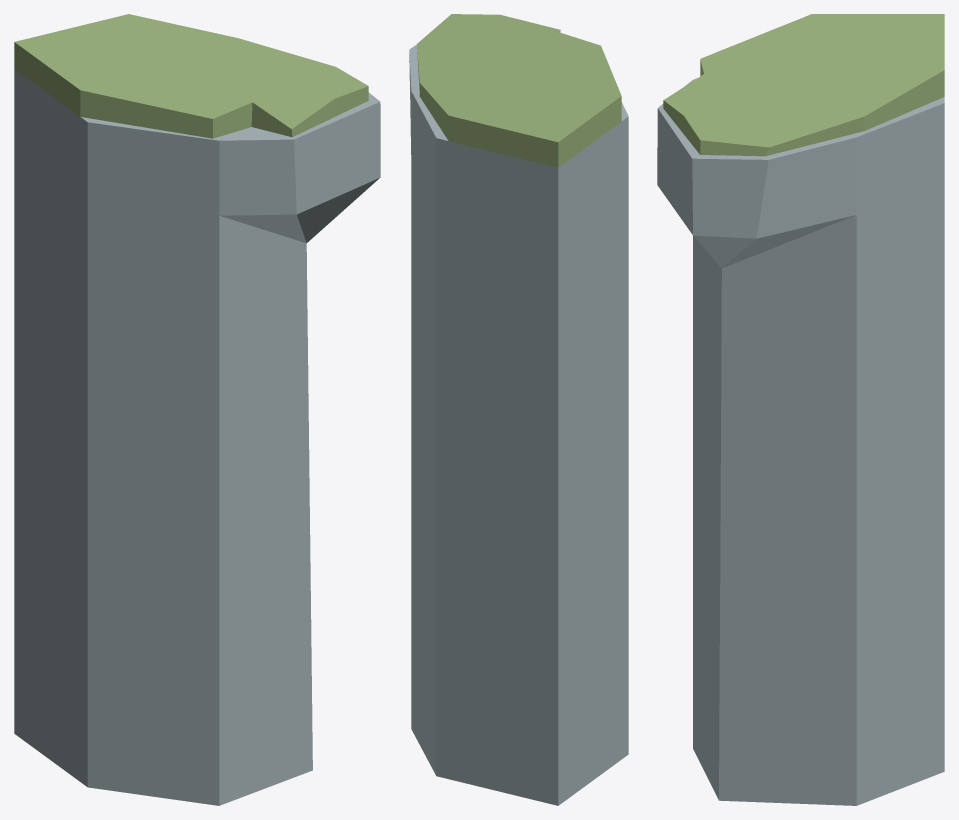
File: Dual_Grid_L_W_W_W_02.fbx
3 renders of one model, left to right at view 1: azimuth 30°, elevation 25°; view 2: azimuth 150°, elevation 25°; view 3: azimuth 270°, elevation 25°, orthographic. The views are drawn at different scales.
Visible parts, largest first — view 1: Tile_L_W_W_W_02; view 2: Tile_L_W_W_W_02; view 3: Tile_L_W_W_W_02.
Boxes of the visible parts, x1,y1,x2,y2 form: Tile_L_W_W_W_02: (14, 14, 380, 805); Tile_L_W_W_W_02: (409, 14, 628, 805); Tile_L_W_W_W_02: (657, 14, 944, 805).
Bounding box in the file's own units: 97.02 × 97.38 × 260.
